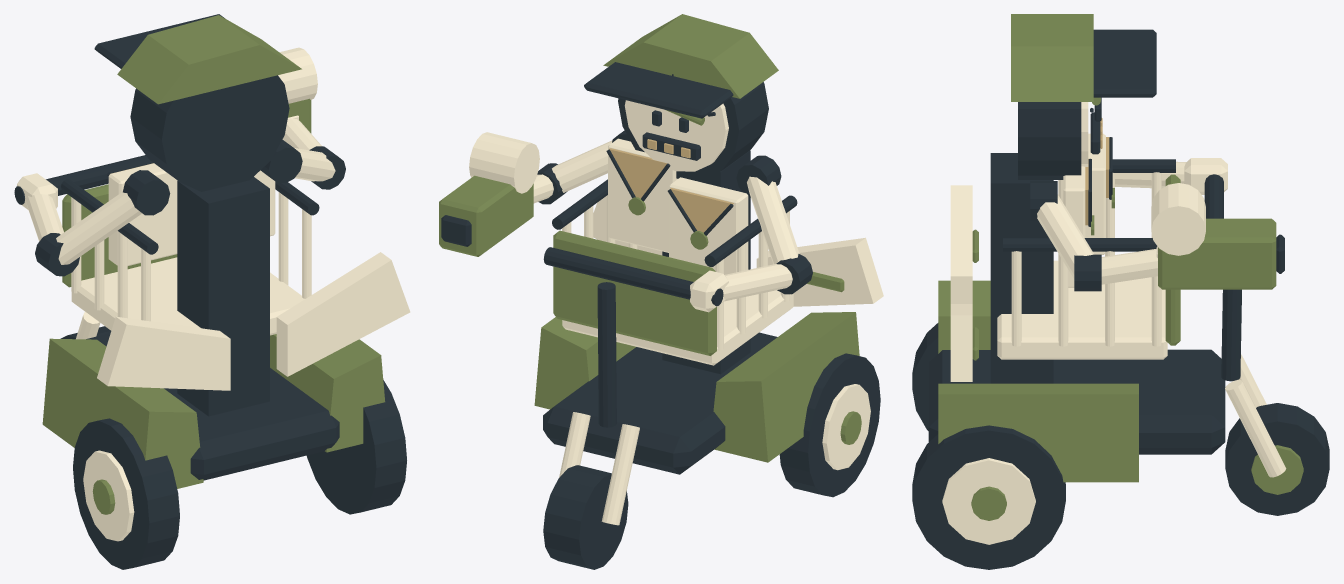
The picture shows the model from 3 angles, left to right: view 1: azimuth 30°, elevation 25°; view 2: azimuth 150°, elevation 25°; view 3: azimuth 270°, elevation 25°; orthographic projection. The views are drawn at different scales.
Visible parts, largest first — view 1: leaning_mast, gauge_cranium, left_speed_fender, peak_cap, cart_keel, mail_fin_1, rear_L_tire, mail_fin_-1, rear_R_tire, right_speed_fender, mail_basket_floor, outgoing_A_sheet (+24 smaller); view 2: cart_keel, left_speed_fender, mail_basket_front, peak_cap, rear_L_tire, front_tire, receipt_blaster, cap_bill, mail_fin_-1, right_speed_fender, outgoing_B_sheet, outgoing_A_sheet (+25 smaller); view 3: right_speed_fender, cart_keel, rear_R_tire, mail_basket_floor, leaning_mast, peak_cap, receipt_blaster, front_tire, rear_R_hub, gauge_cranium, cap_bill, receipt_spool (+25 smaller).
Part boxes in pixels (x1,y1,x2,y2): leaning_mast: [177, 177, 269, 416]; gauge_cranium: [130, 75, 289, 191]; left_speed_fender: [42, 338, 203, 488]; peak_cap: [117, 15, 301, 104]; cart_keel: [86, 333, 339, 480]; mail_fin_1: [276, 252, 410, 376]; rear_L_tire: [73, 418, 179, 569]; mail_fin_-1: [97, 316, 230, 390]; rear_R_tire: [306, 380, 406, 514]; right_speed_fender: [270, 334, 385, 452]; mail_basket_floor: [71, 257, 304, 335]; outgoing_A_sheet: [108, 163, 177, 265]; cart_keel: [543, 332, 777, 474]; left_speed_fender: [713, 312, 859, 462]; mail_basket_front: [553, 230, 716, 355]; peak_cap: [603, 14, 778, 98]; rear_L_tire: [779, 353, 880, 497]; front_tire: [543, 465, 628, 569]; receipt_blaster: [439, 175, 533, 256]; cap_bill: [584, 62, 733, 118]; mail_fin_-1: [756, 237, 883, 306]; right_speed_fender: [534, 317, 635, 409]; outgoing_B_sheet: [608, 138, 677, 252]; outgoing_A_sheet: [669, 177, 748, 274]; right_speed_fender: [938, 383, 1138, 482]; cart_keel: [928, 349, 1225, 454]; rear_R_tire: [912, 425, 1065, 569]; mail_basket_floor: [997, 260, 1167, 359]; leaning_mast: [990, 153, 1053, 383]; peak_cap: [1011, 14, 1093, 101]; receipt_blaster: [1158, 218, 1276, 289]; front_tire: [1225, 403, 1329, 515]; rear_R_hub: [942, 458, 1035, 544]; gauge_cranium: [1018, 102, 1081, 179]; cap_bill: [1093, 29, 1156, 97]; receipt_spool: [1151, 183, 1205, 255].
Size of the model in its own units: 1.31 by 1.91 by 1.52.
